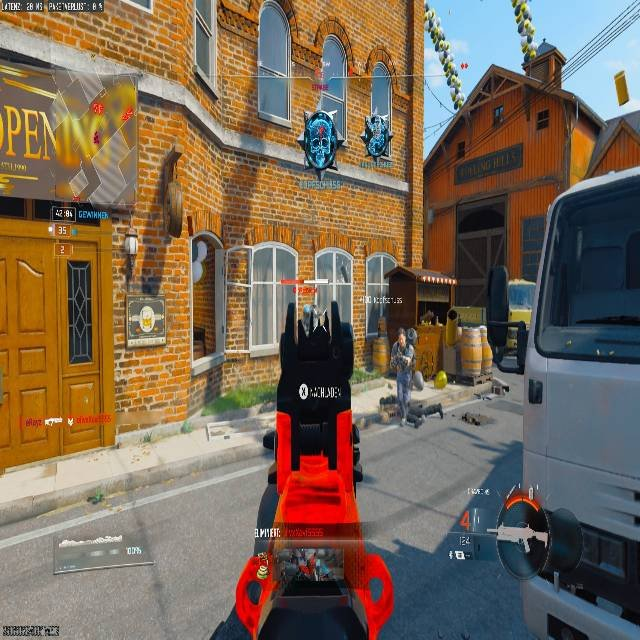player: (425, 1, 463, 110), (390, 327, 416, 415), (361, 114, 389, 163)
